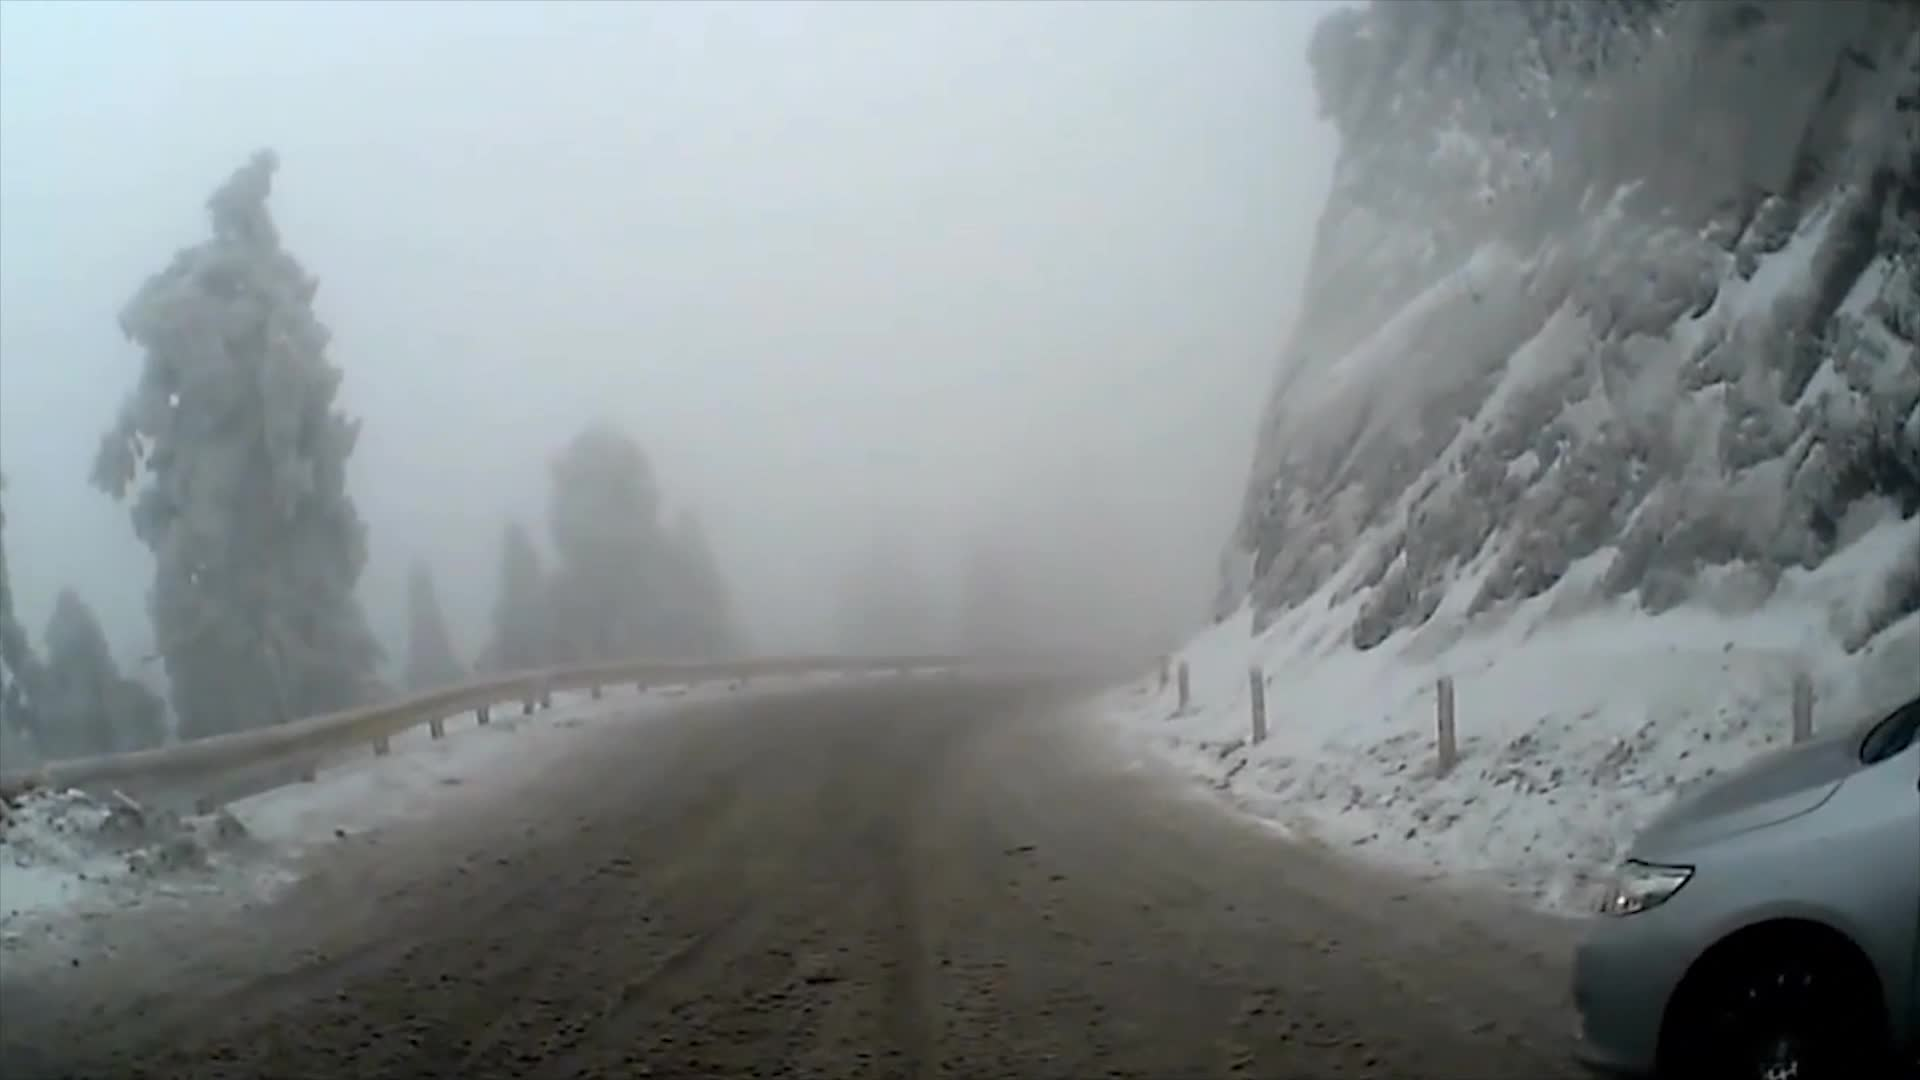vehicle: (1563, 684, 1920, 1077)
